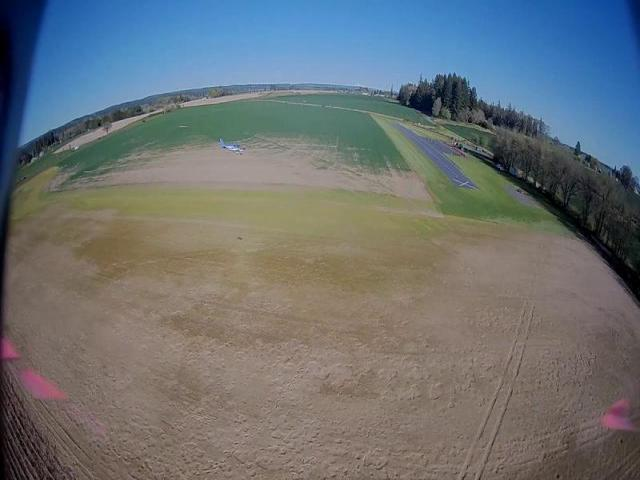hedef: (198, 120, 258, 166)
